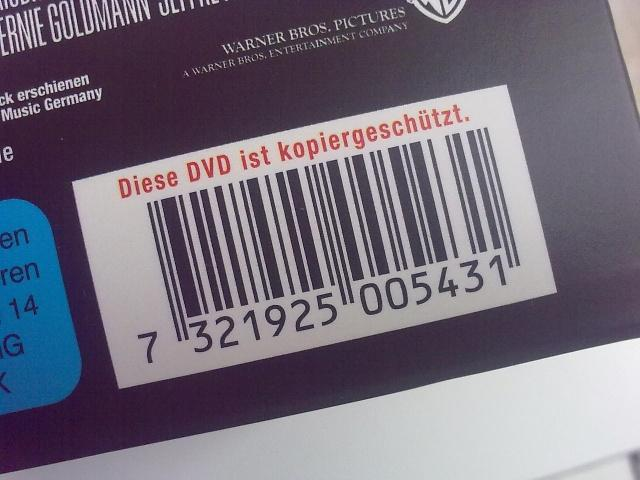Barcode: (133, 124, 525, 371)
